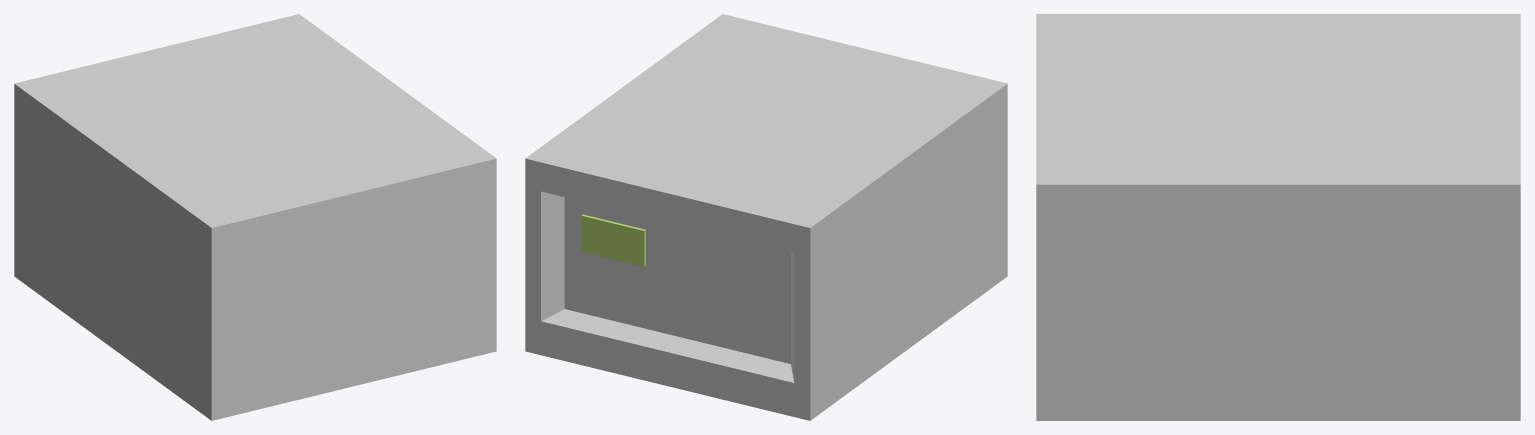
The model's file is FilingCabinet.fbx.
3 renders of one model, left to right at view 1: azimuth 30°, elevation 25°; view 2: azimuth 150°, elevation 25°; view 3: azimuth 270°, elevation 25°, orthographic. The views are drawn at different scales.
Parts seen in each view (by area): view 1: Box001; view 2: Box001; view 3: Box001.
Part boxes in pixels (x1,y1,x2,y2): Box001: [14, 14, 496, 420]; Box001: [525, 14, 1007, 420]; Box001: [1036, 14, 1520, 420].
Size of the model in its own units: 30.93 by 20 by 37.12.
